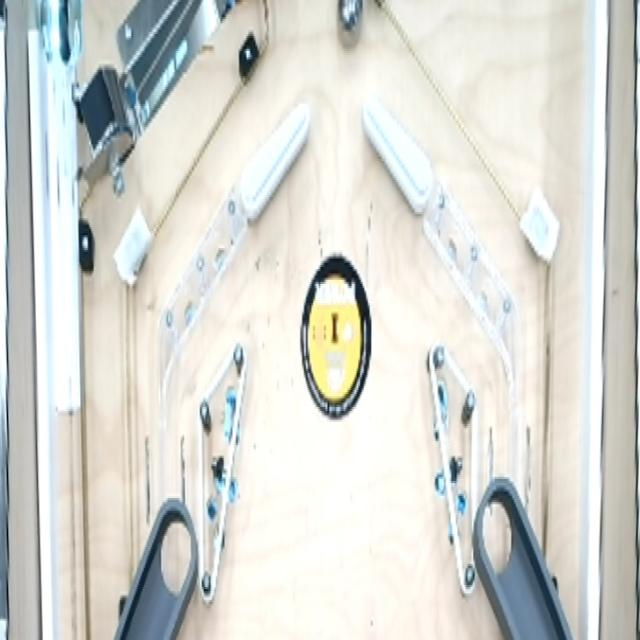ball: (335, 0, 366, 52)
flipper-left: (358, 85, 436, 221)
flipper-right: (235, 97, 312, 229)
